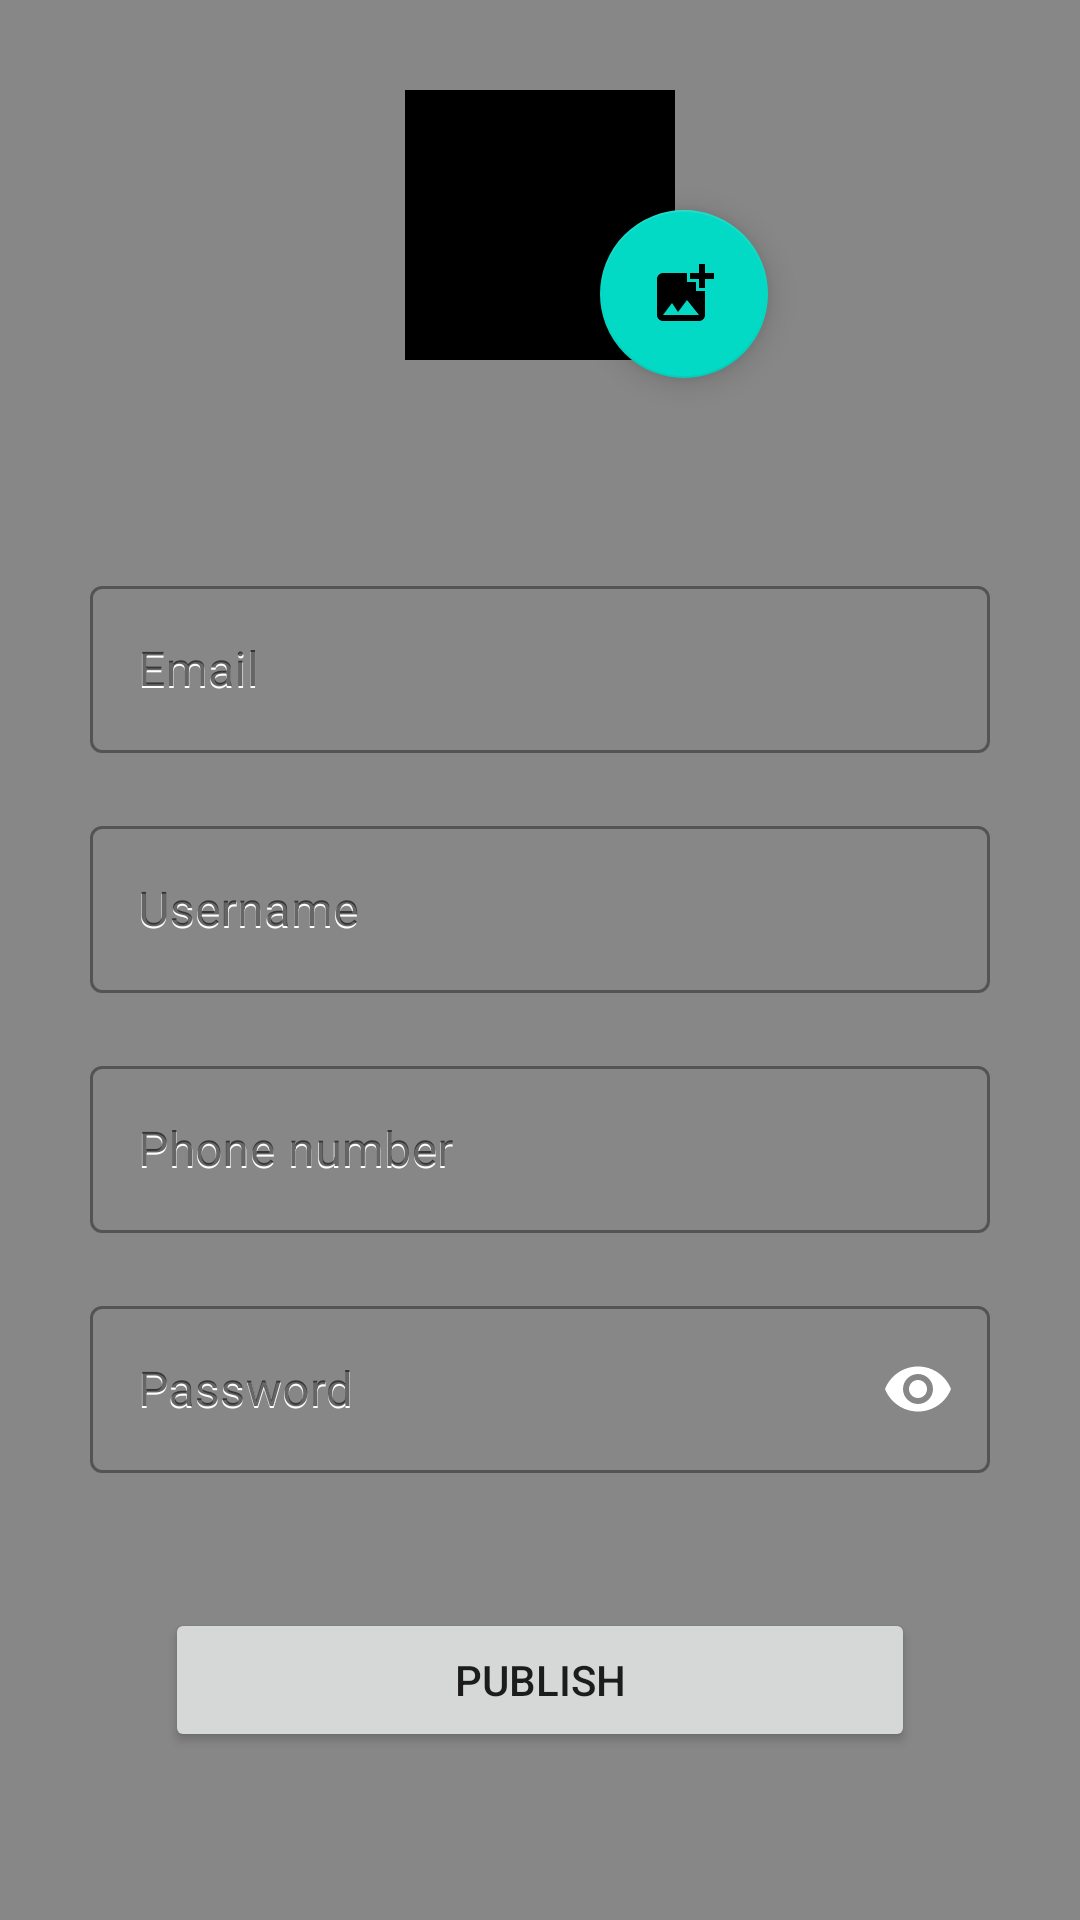

Icon bounding boxes for this 1080×1920 phone screenshot, format [x1=x1, y1=y1, x2=x2, y2=y2]:
add: [x1=600, y1=210, x2=768, y2=378]
